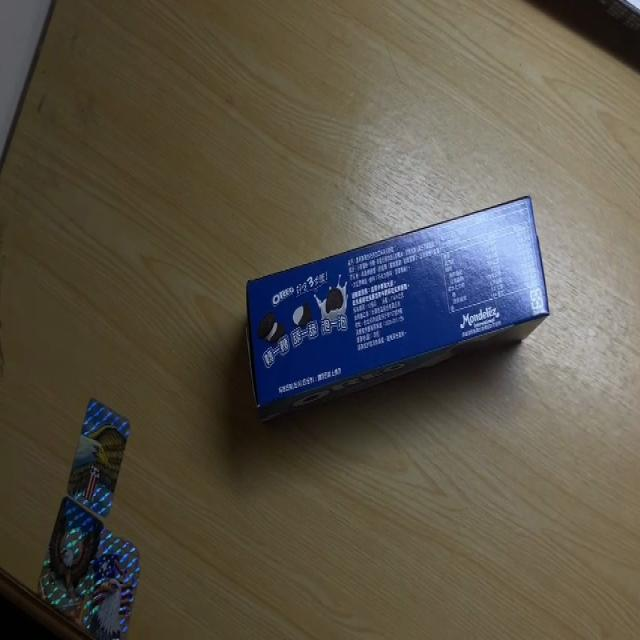Oreo: (246, 194, 551, 414)
